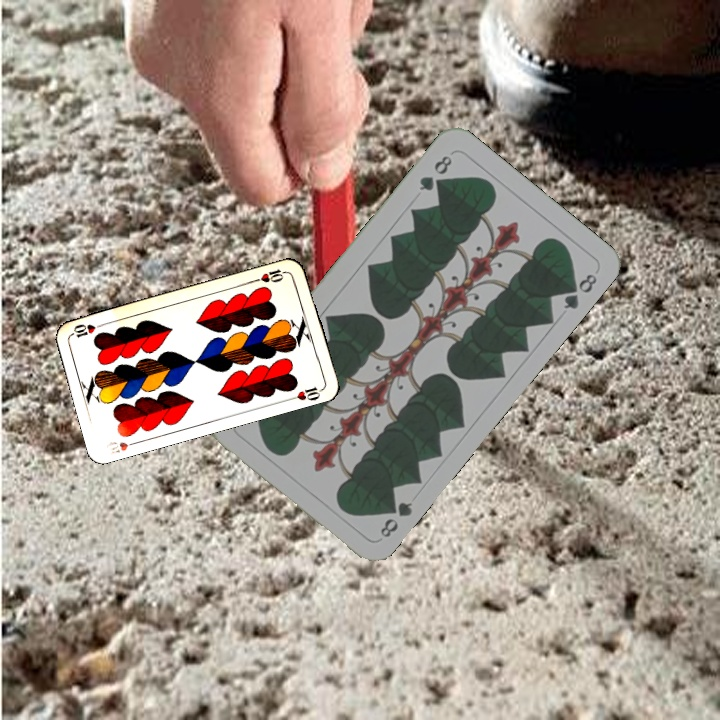G8: (376, 494, 415, 541), (415, 151, 455, 194)
H10: (250, 265, 290, 285), (102, 437, 142, 457)
